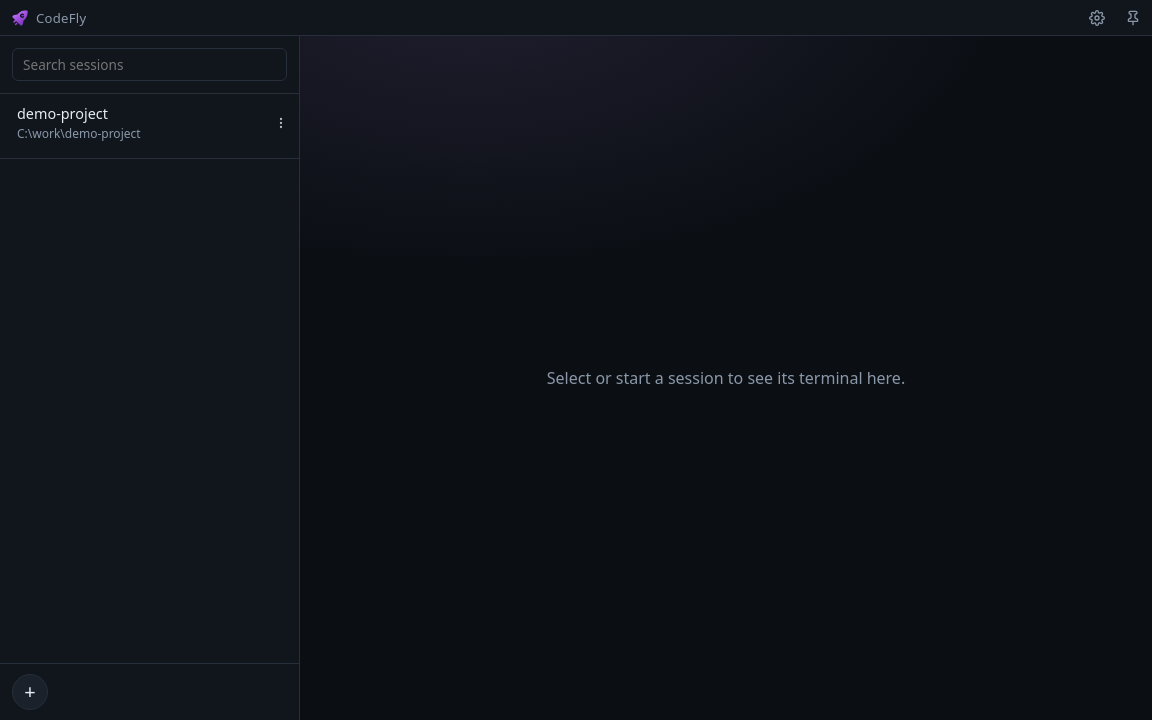
it: App › adds a project and shows it in the sidebar
Click the button named "Add Project": coordinates (30, 692) x1=12 y1=674 x2=48 y2=710
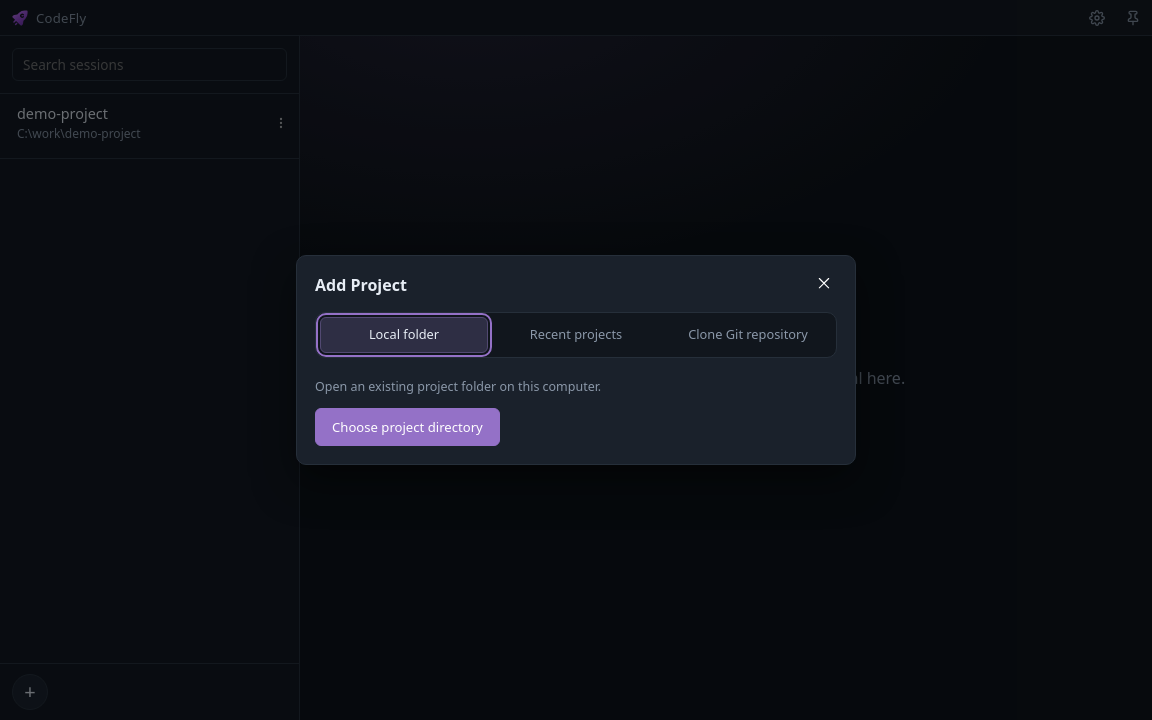
Click the button "Choose project directory": coordinates (407, 427) x1=315 y1=408 x2=500 y2=446
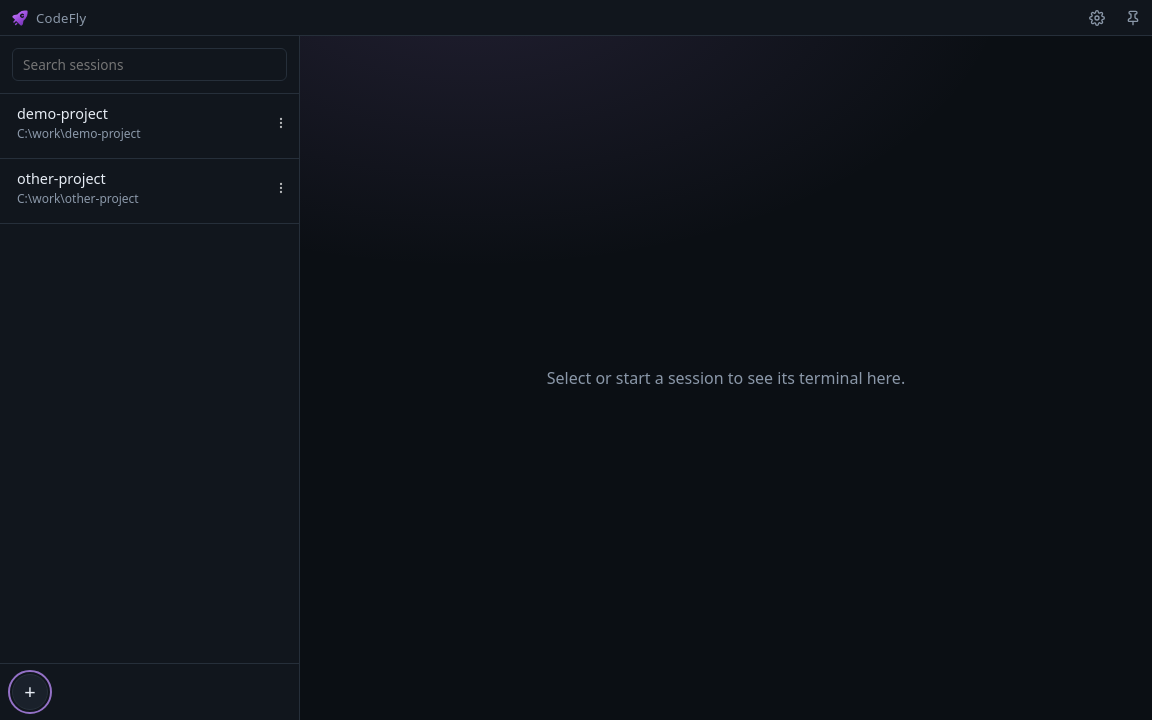
Check: the text "other-project" is shown, box x1=17 y1=169 x2=106 y2=188
